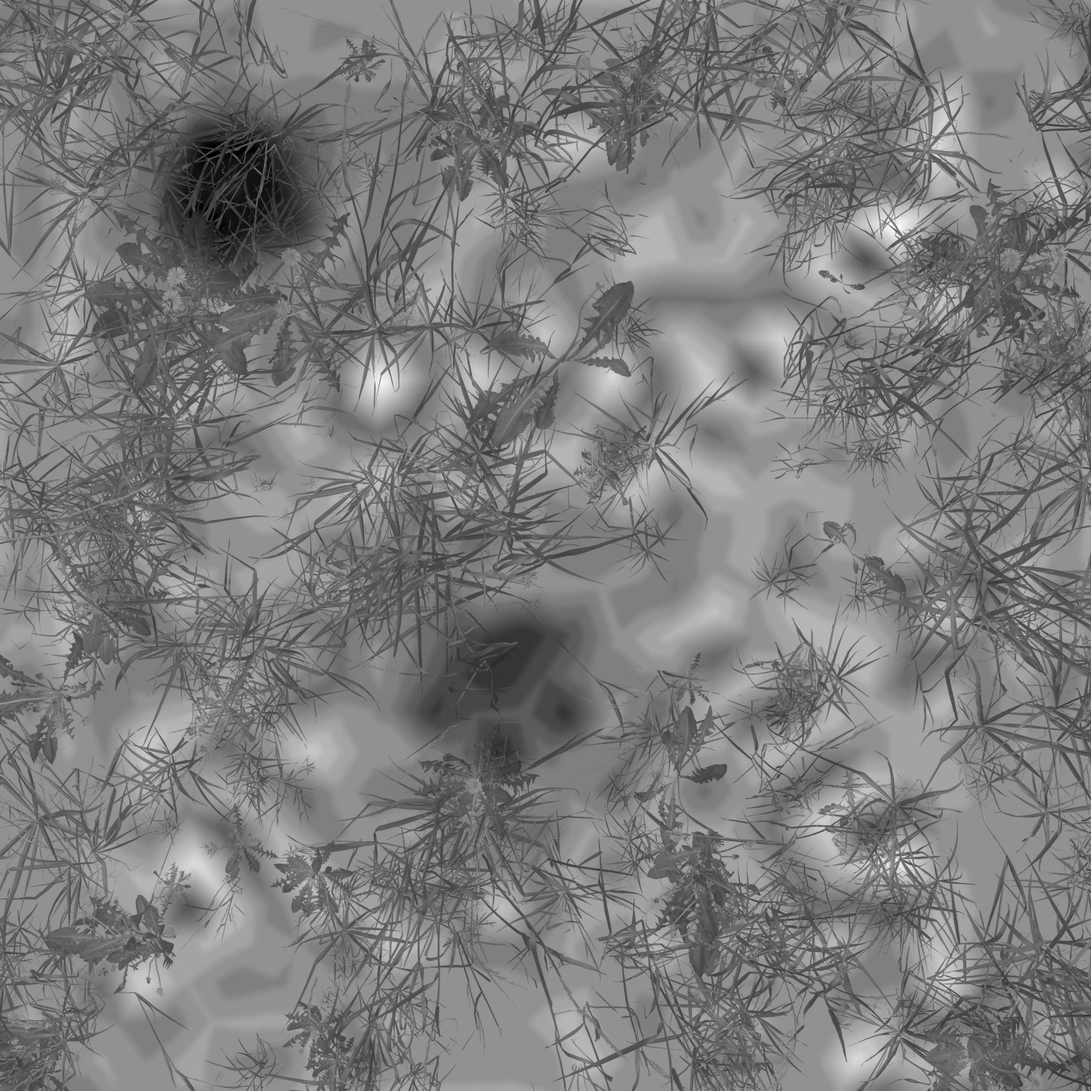landmine: (433, 600, 580, 758), (171, 120, 298, 245)
